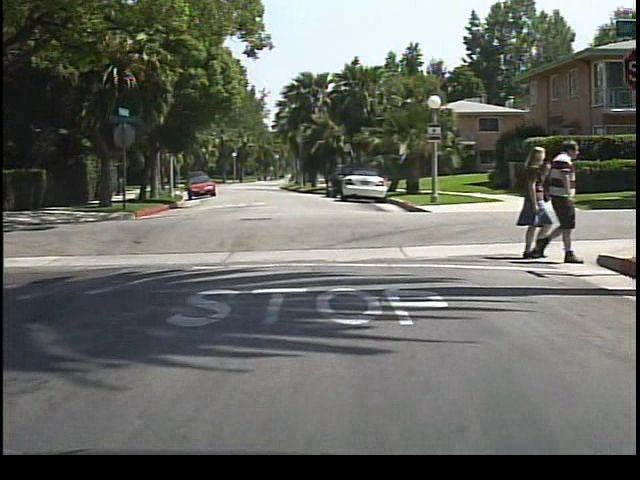person: (533, 137, 587, 265), (510, 146, 547, 258)
